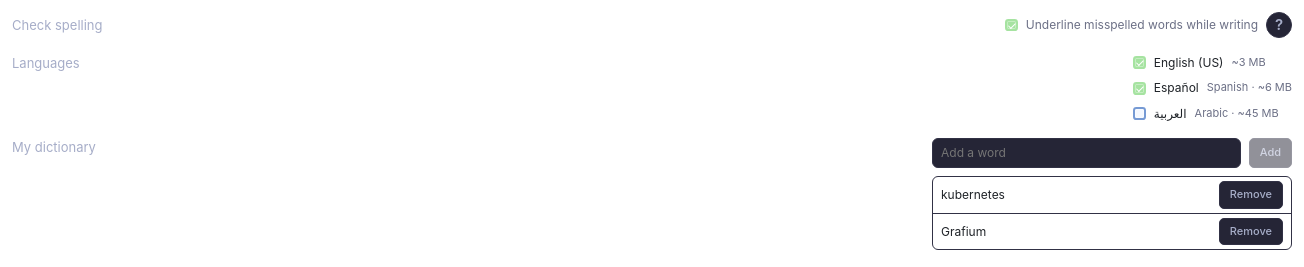
Scenario: the languages › are greyed out while spell check is off
The width and height of the screenshot is (1304, 267).
Expected: the label "English (US) ~3 MB" is shown, [1133,55,1266,70]
Expected: the checkbox labelled "Español Spanish · ~6 MB" is enabled, [1133,82,1146,95]
Click the checkbox labelled "Underline misspelled words while writing" at (1011, 25), box [1005,18,1018,32]
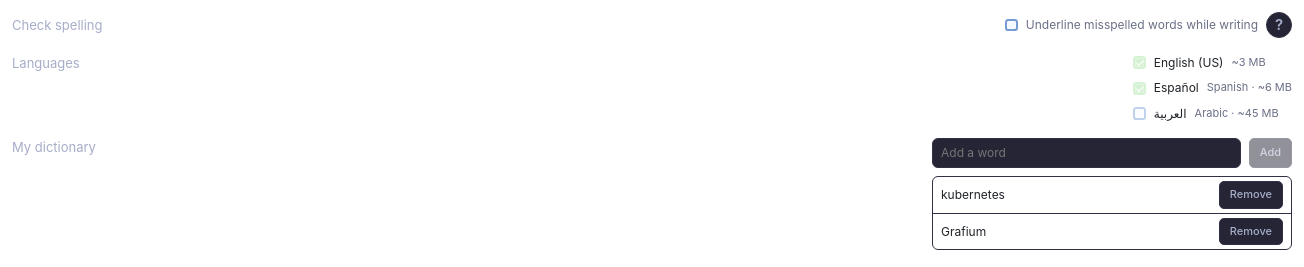
Expected: the checkbox labelled "Underline misspelled words while writing" is not checked, [1005,18,1018,32]
Expected: the checkbox labelled "Español Spanish · ~6 MB" is disabled, [1133,82,1146,95]
